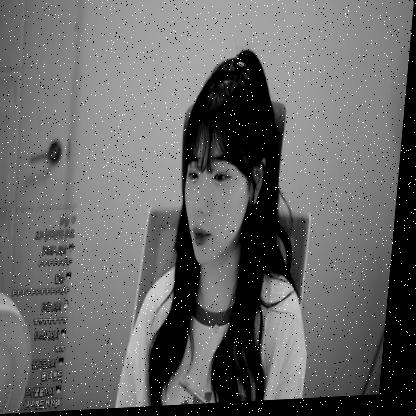streamer: (123, 47, 338, 410)
